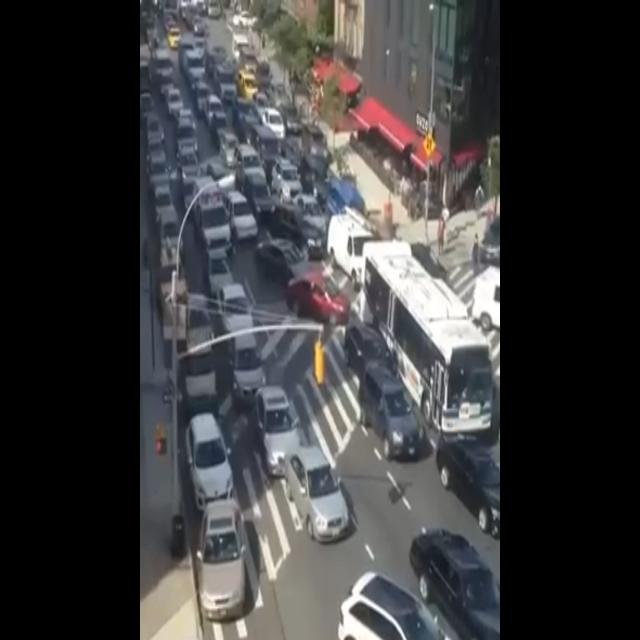Ambulance: (187, 168, 234, 266)
